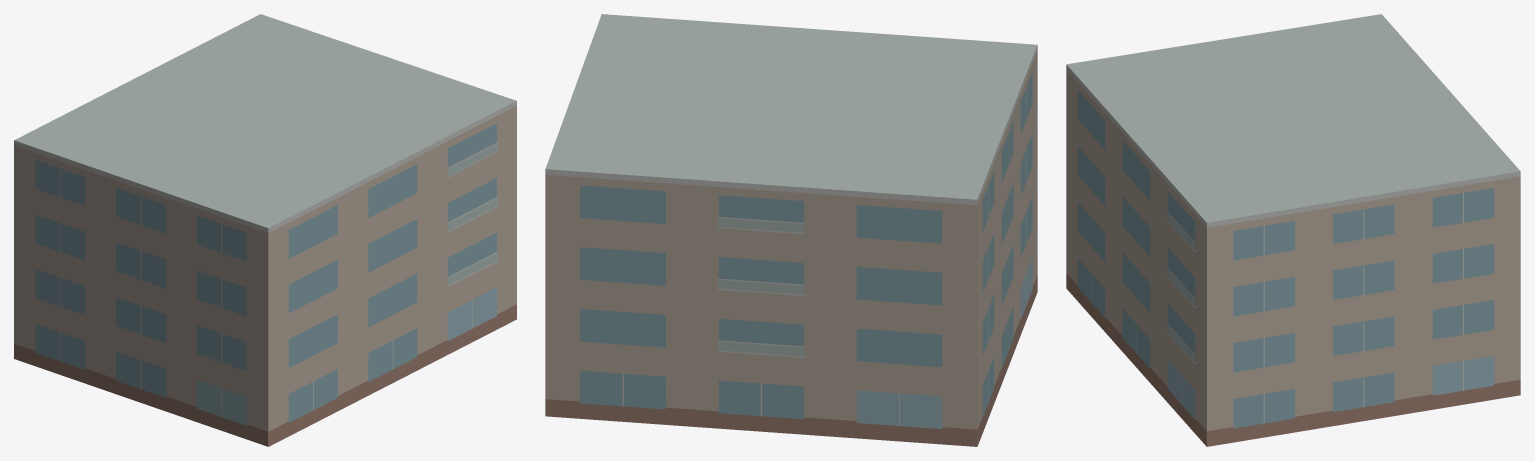
Rendered from survey-upis-32861626.glb.
3 views of the same model, side by side, from view 1: azimuth 30°, elevation 25°; view 2: azimuth 150°, elevation 25°; view 3: azimuth 270°, elevation 25° (orthographic). The views are drawn at different scales.
Parts seen in each view (by area): view 1: survey-upis-32861626.tmp; view 2: survey-upis-32861626.tmp; view 3: survey-upis-32861626.tmp.
Boxes of the visible parts, left/top/right/bottom form: survey-upis-32861626.tmp: left=14, top=14, right=516, bottom=446; survey-upis-32861626.tmp: left=545, top=14, right=1037, bottom=446; survey-upis-32861626.tmp: left=1066, top=14, right=1520, bottom=446.
Bounding box in the file's own units: 21.6 × 10.8 × 19.85.
